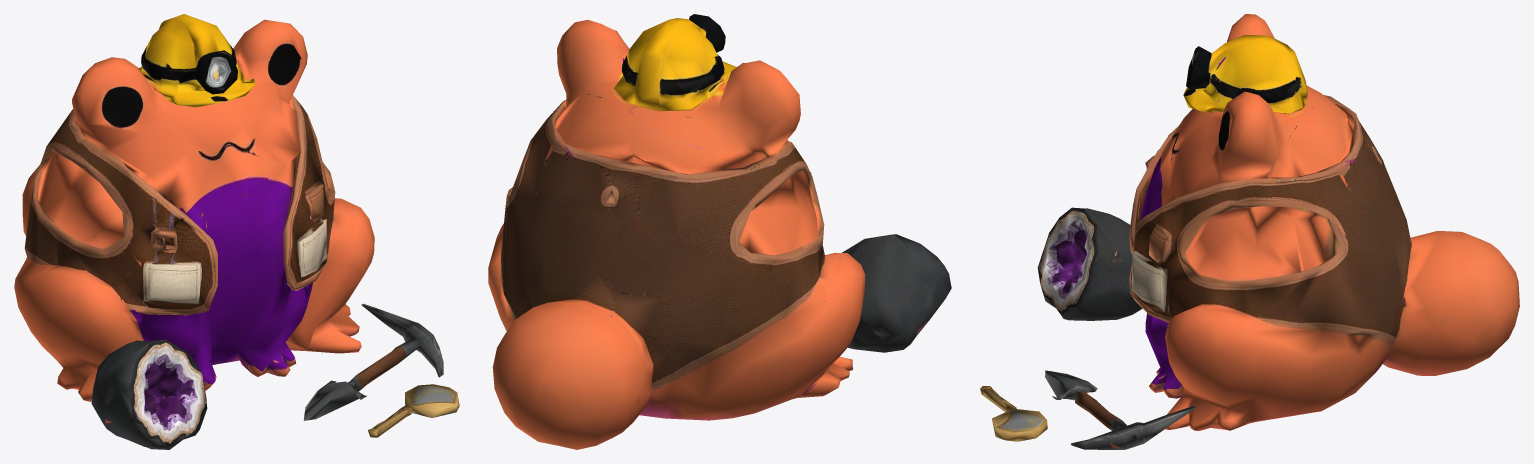
File: geologue.glb
The picture shows the model from 3 angles, left to right: view 1: azimuth 30°, elevation 25°; view 2: azimuth 150°, elevation 25°; view 3: azimuth 270°, elevation 25°; orthographic projection. The views are drawn at different scales.
Visible parts, largest first — view 1: mesh_node; view 2: mesh_node; view 3: mesh_node.
Boxes of the visible parts, x1,y1,x2,y2 form: mesh_node: (14,14,459,449); mesh_node: (488,14,951,449); mesh_node: (980,14,1519,449).
Size of the model in its own units: 1.39 by 1.29 by 1.9.
1 material, 1 textured.
